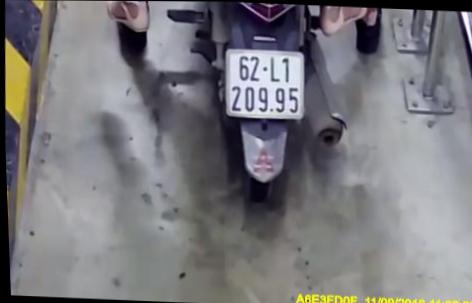LP: (223, 46, 311, 123)
